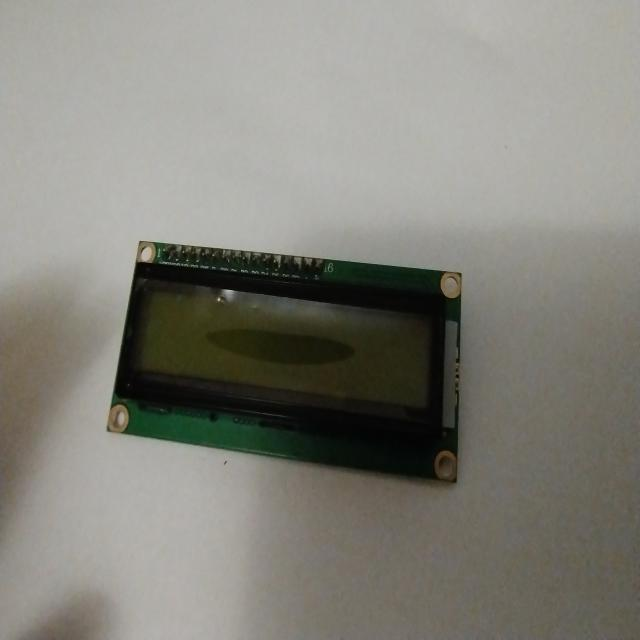lcd: (106, 237, 463, 485)
